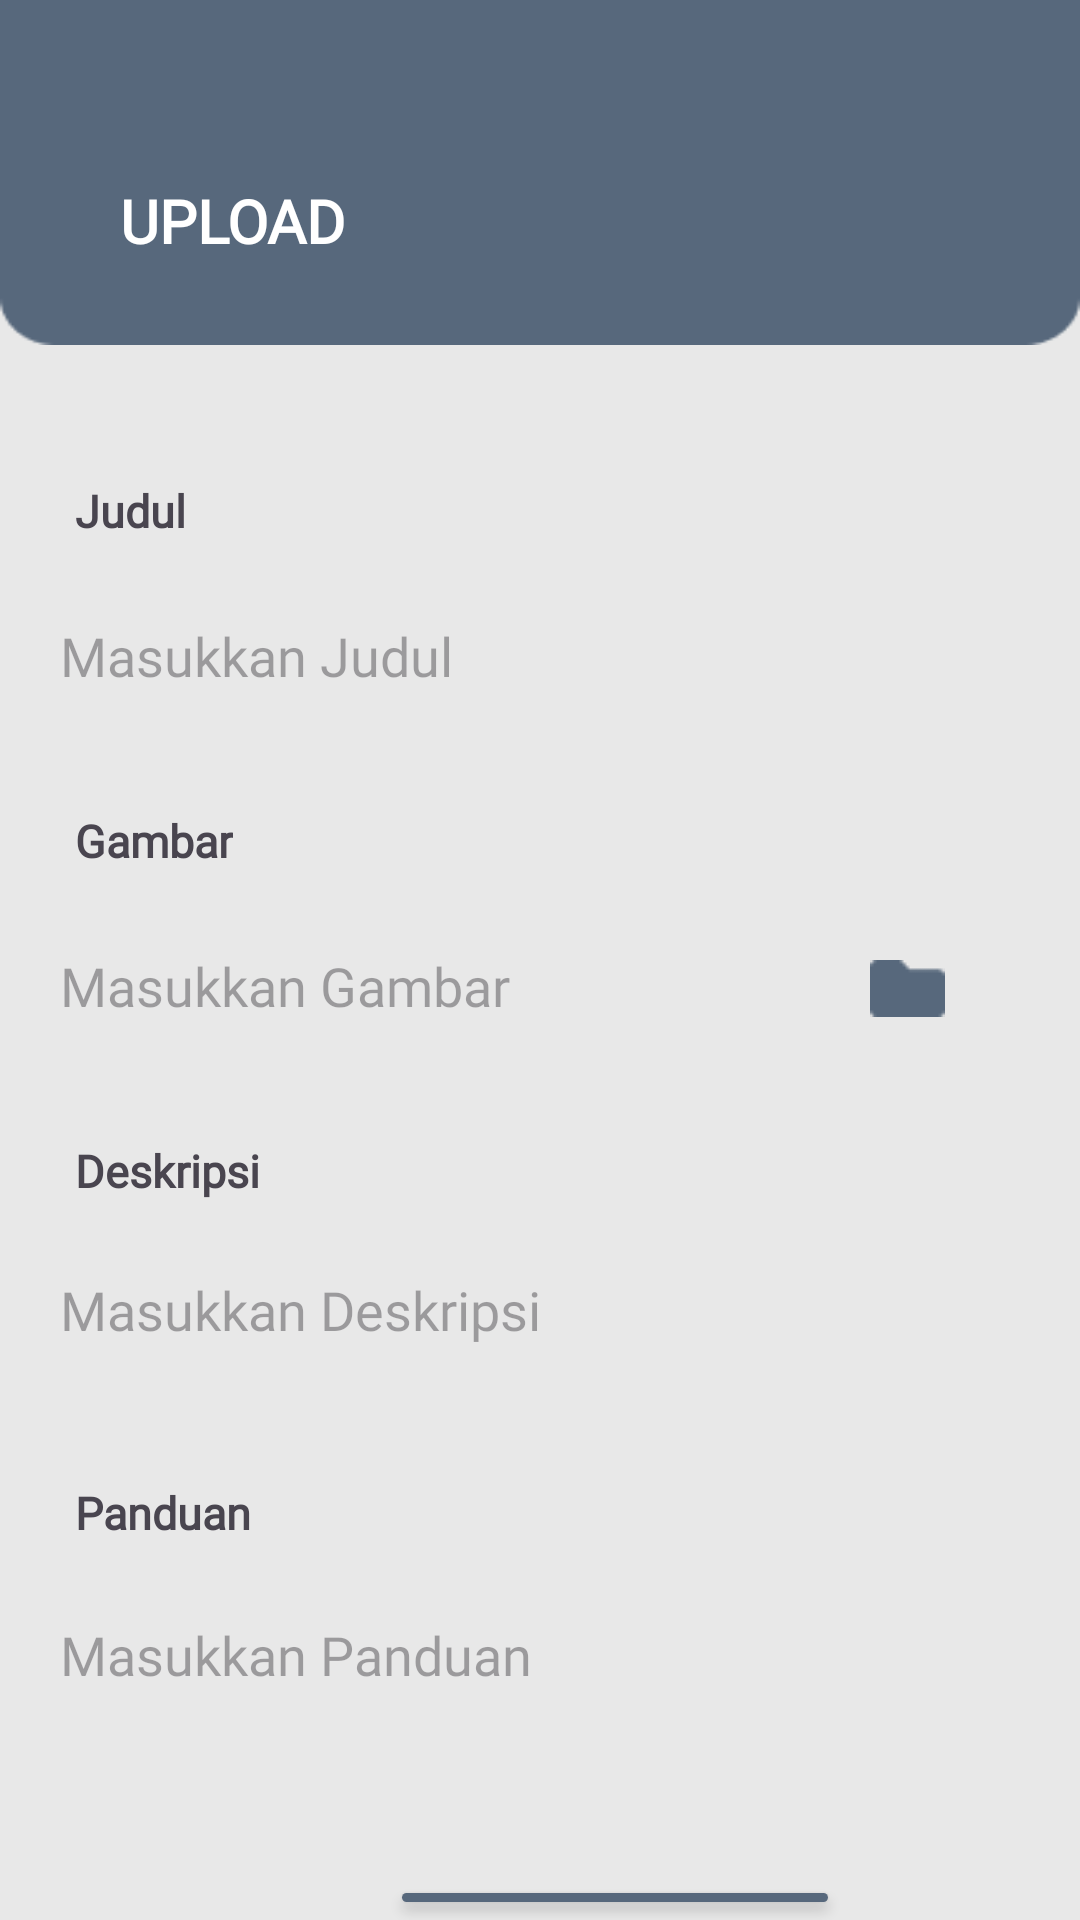

Screen size 1080×1920. Icon name, then its center in pixels as (x=x, y=y):
folder: (x=907, y=988)
